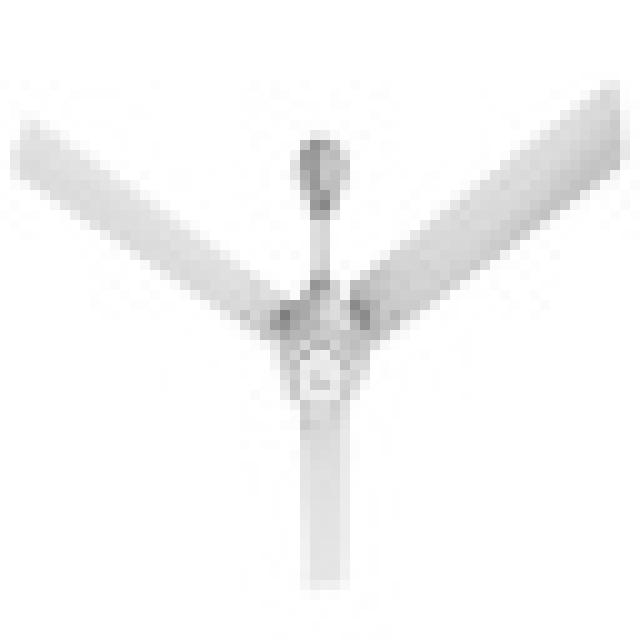Bulb: (4, 69, 621, 550)
